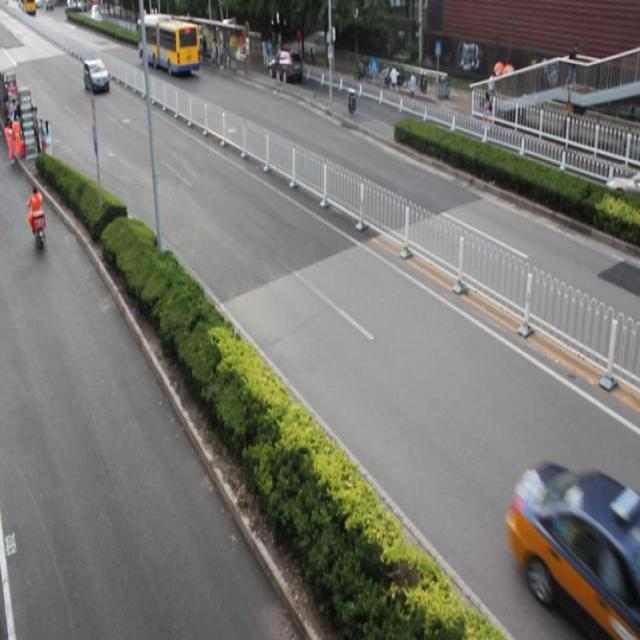car: (506, 461, 640, 633), (266, 50, 302, 84)
van: (137, 13, 198, 75)
